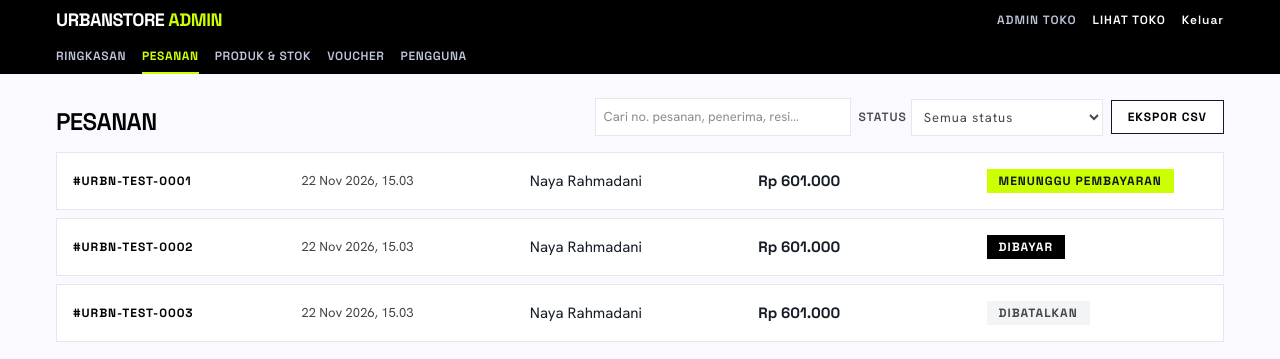
Test: panel admin: pesanan › admin melihat pesanan semua pelanggan dan dapat memfilter status
Expected: the text "#URBN-TEST-0001" is shown, [73,173,192,189]
Expected: the text "#URBN-TEST-0002" is shown, [73,239,194,255]
Select "Dibayar" in the dropdown labelled "Status" at (1007, 117), box [911,98,1103,136]
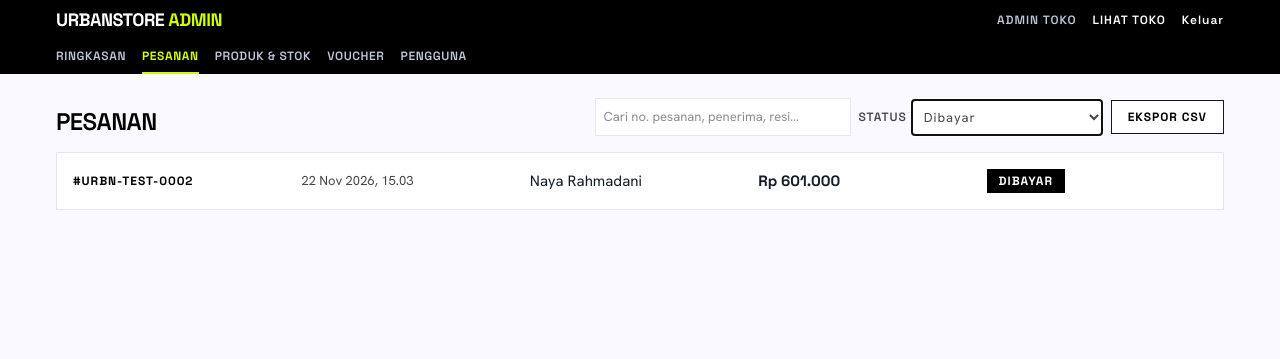
Expected: the text "#URBN-TEST-0002" is shown, [73,173,194,189]
Expected: the button "#URBN-TEST-0001" is gone
Select "Semua status" in the dropdown labelled "Status" at (1007, 117), box [911,98,1103,136]
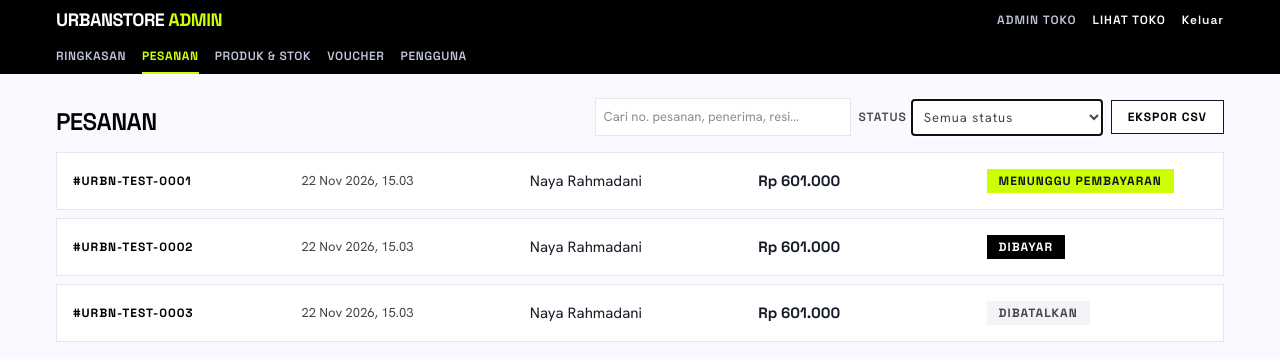
Type "0003" into the field named "Cari pesanan".
click(722, 117); type("0003")  # box [594,98,850,136]
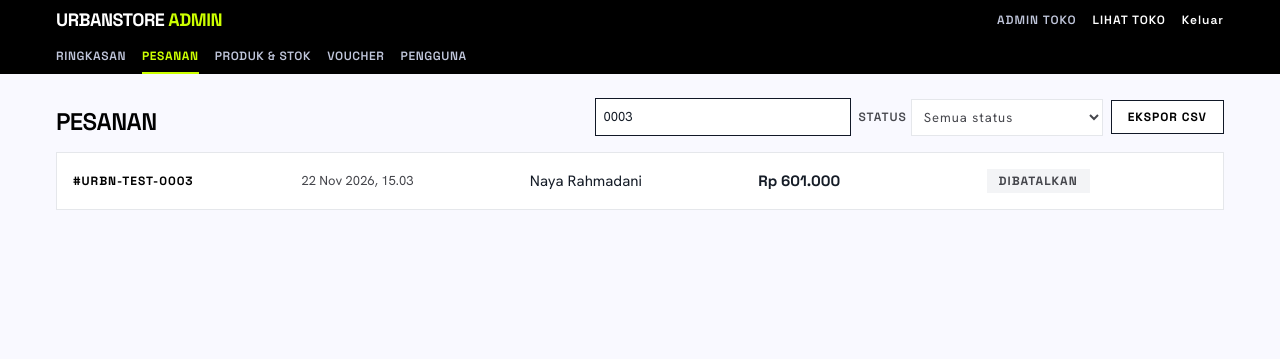
Expected: the text "#URBN-TEST-0003" is shown, [73,173,194,189]
Expected: the button "#URBN-TEST-0002" is gone
